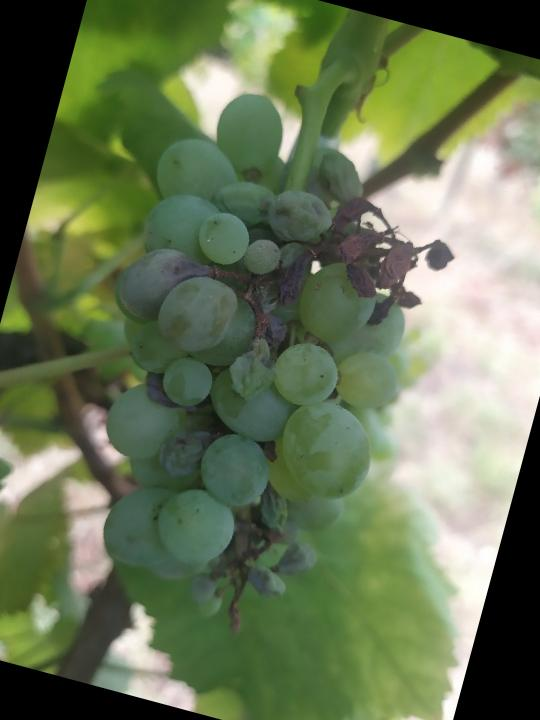grape: (31, 67, 486, 668)
